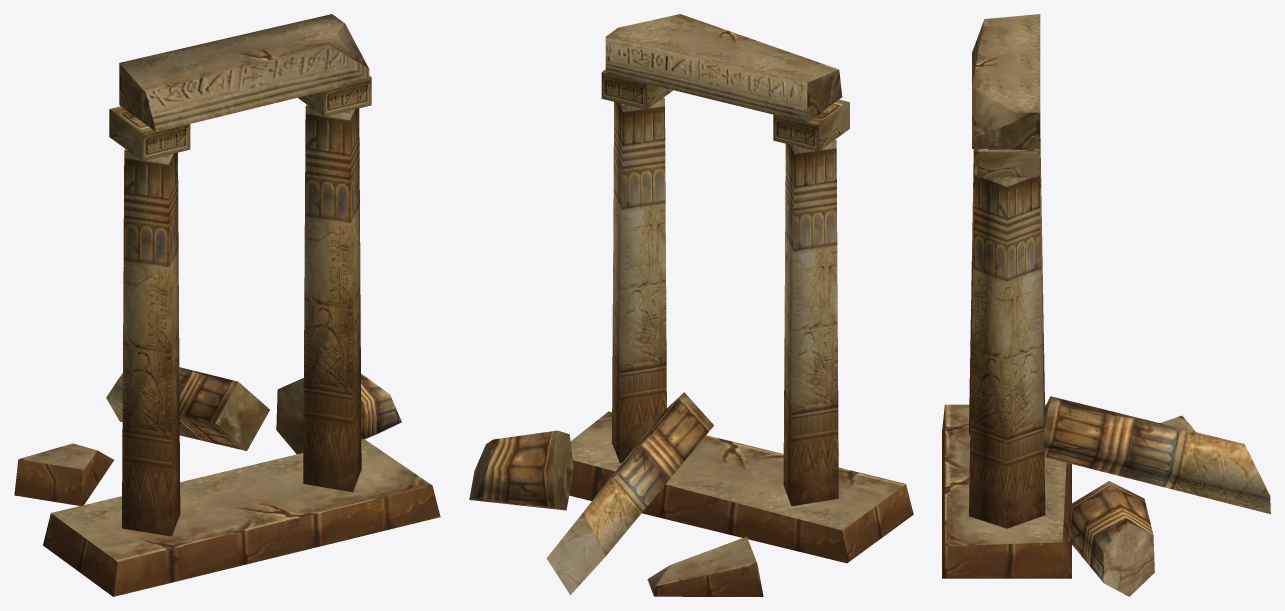
The model's file is Gobi_Ruins01.FBX.
3 views of the same model, side by side, from view 1: azimuth 30°, elevation 25°; view 2: azimuth 150°, elevation 25°; view 3: azimuth 270°, elevation 25° (orthographic). The views are drawn at different scales.
Parts seen in each view (by area): view 1: Gobi_Ruins01; view 2: Gobi_Ruins01; view 3: Gobi_Ruins01.
Boxes of the visible parts, x1=… form: Gobi_Ruins01: x1=14, y1=14, x2=440, y2=596; Gobi_Ruins01: x1=469, y1=14, x2=913, y2=596; Gobi_Ruins01: x1=942, y1=14, x2=1270, y2=596.
Bounding box in the file's own units: 660 × 812 × 541.
